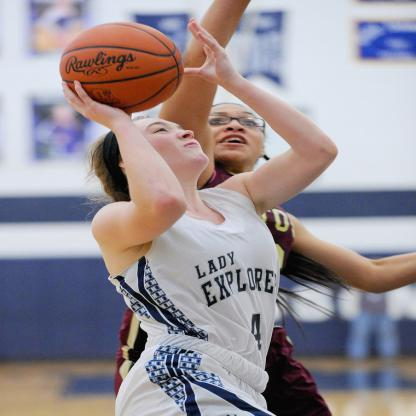Ball: (60, 22, 183, 113)
